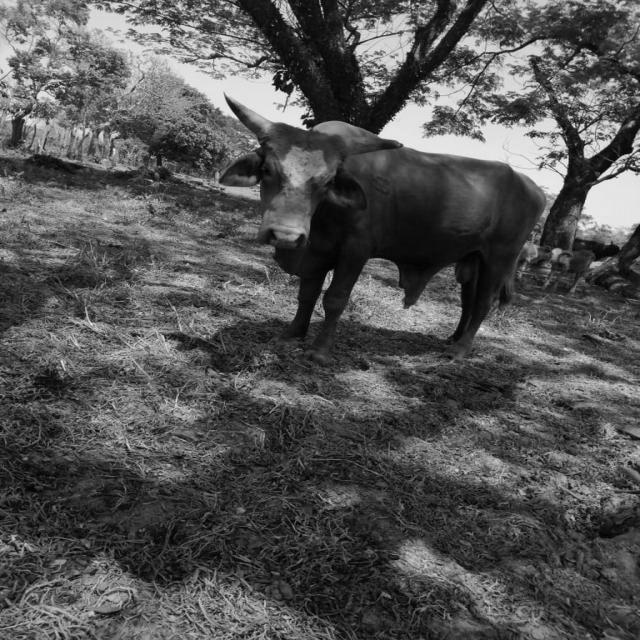cow: (220, 96, 544, 361)
